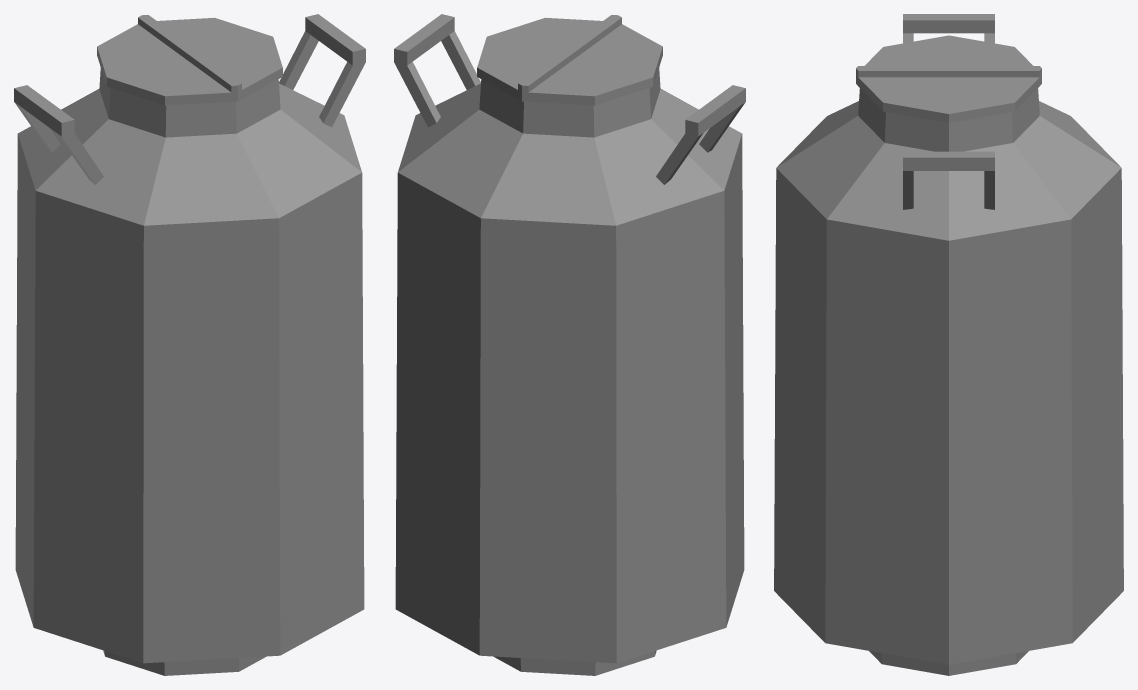
File: Canister.fbx
3 views of the same model, side by side, from view 1: azimuth 30°, elevation 25°; view 2: azimuth 150°, elevation 25°; view 3: azimuth 270°, elevation 25° (orthographic). The views are drawn at different scales.
Parts seen in each view (by area): view 1: Canister; view 2: Canister; view 3: Canister.
Part boxes in pixels (<box>): Canister: <box>14,14,365,675</box>; Canister: <box>394,14,745,675</box>; Canister: <box>774,14,1123,675</box>.
Bounding box in the file's own units: 29.54 × 29.54 × 52.87.
